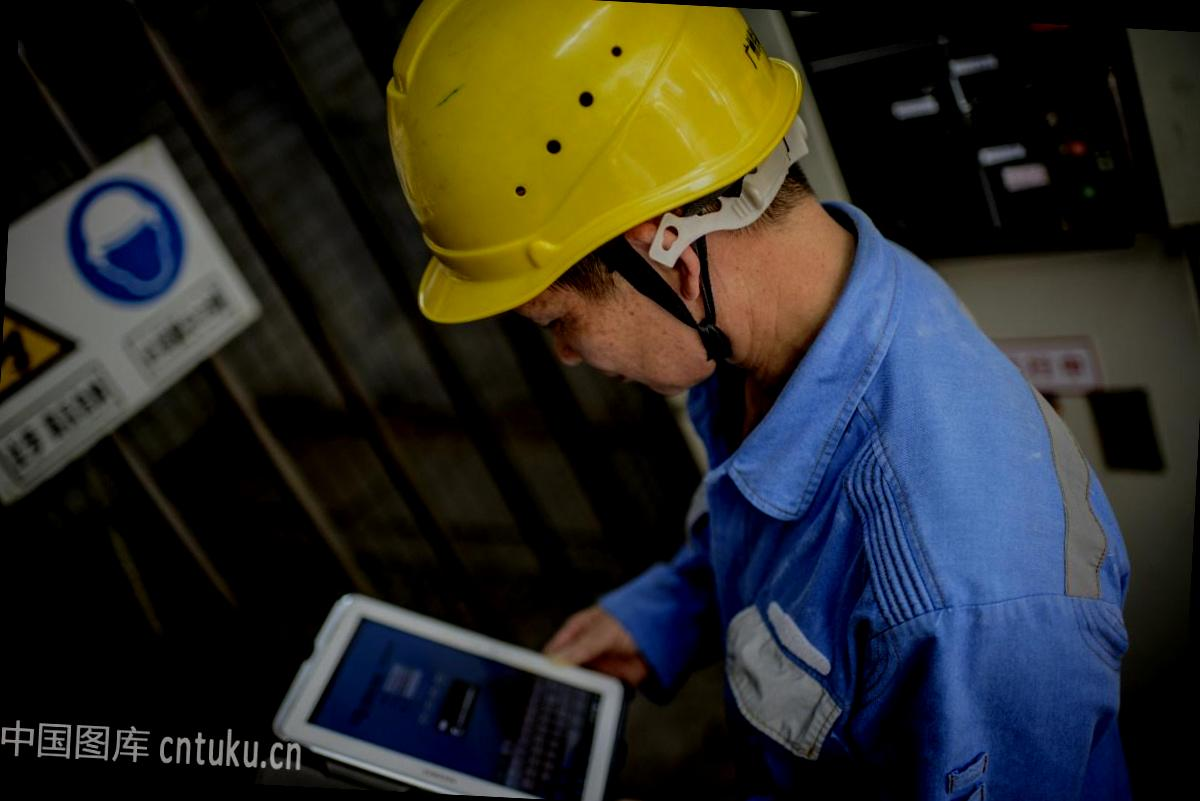helmet: (369, 0, 816, 320)
person: (345, 0, 1186, 801)
